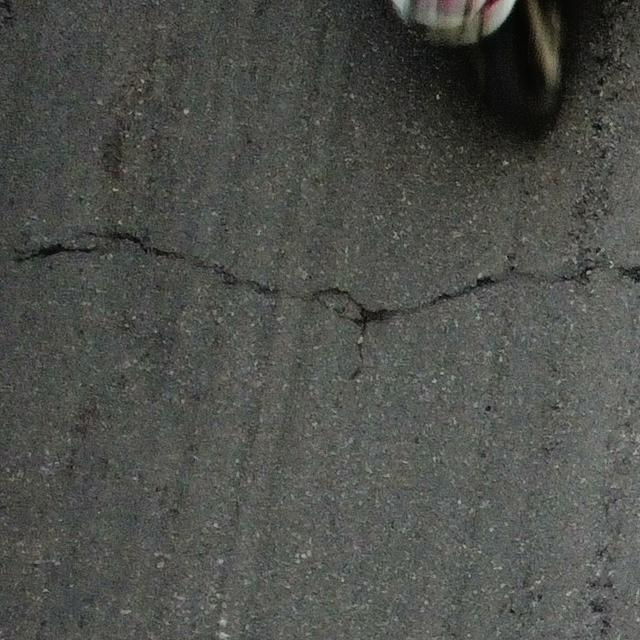TransverseCrack: (17, 230, 640, 326)
